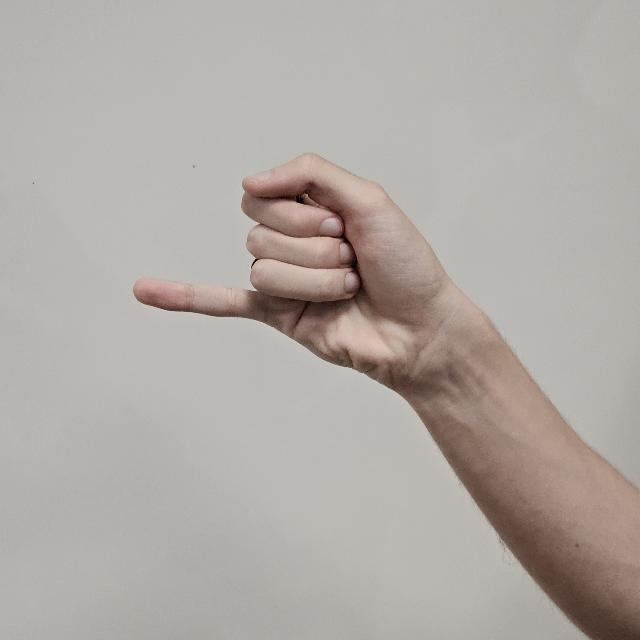Esquerda: (126, 139, 436, 407)
